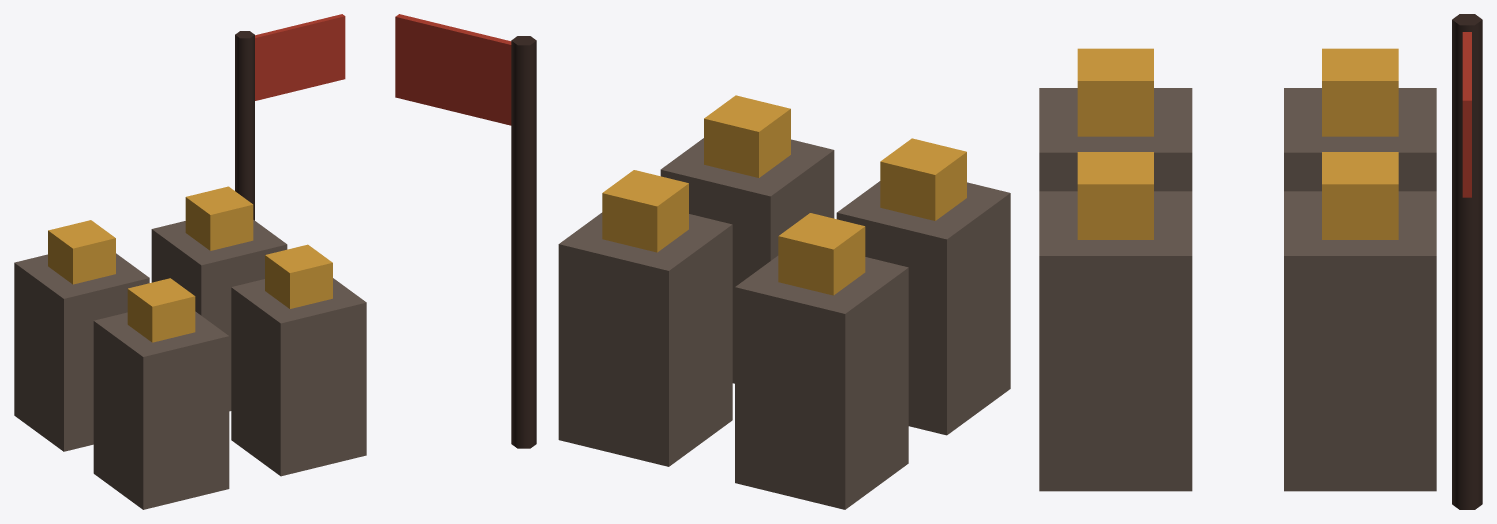
Rendered from ji_guan_jun_tuan.glb.
The picture shows the model from 3 angles, left to right: view 1: azimuth 30°, elevation 25°; view 2: azimuth 150°, elevation 25°; view 3: azimuth 270°, elevation 25°; orthographic projection. The views are drawn at different scales.
Parts seen in each view (by area): view 1: _MeshInstance3D_48, _MeshInstance3D_52, _MeshInstance3D_46, _MeshInstance3D_50, _MeshInstance3D_55, _MeshInstance3D_49, _MeshInstance3D_51, _MeshInstance3D_47, _MeshInstance3D_53, _MeshInstance3D_54; view 2: _MeshInstance3D_50, _MeshInstance3D_46, _MeshInstance3D_48, _MeshInstance3D_52, _MeshInstance3D_54, _MeshInstance3D_55, _MeshInstance3D_47, _MeshInstance3D_49, _MeshInstance3D_51, _MeshInstance3D_53; view 3: _MeshInstance3D_52, _MeshInstance3D_50, _MeshInstance3D_54, _MeshInstance3D_48, _MeshInstance3D_46, _MeshInstance3D_47, _MeshInstance3D_49, _MeshInstance3D_51, _MeshInstance3D_53, _MeshInstance3D_55.
Boxes of the visible parts, x1,y1,x2,y2 form: _MeshInstance3D_48: (93,311,229,509); _MeshInstance3D_52: (231,278,366,476); _MeshInstance3D_46: (14,253,149,451); _MeshInstance3D_50: (151,220,287,411); _MeshInstance3D_55: (255,14,345,100); _MeshInstance3D_49: (127,278,195,342); _MeshInstance3D_51: (185,186,253,250); _MeshInstance3D_47: (48,220,115,284); _MeshInstance3D_53: (265,244,332,308); _MeshInstance3D_54: (235,31,254,220); _MeshInstance3D_50: (558,212,732,466); _MeshInstance3D_46: (735,256,908,509); _MeshInstance3D_48: (836,181,1010,435); _MeshInstance3D_52: (660,138,834,383); _MeshInstance3D_54: (511,36,536,448); _MeshInstance3D_55: (395,14,511,125); _MeshInstance3D_47: (778,213,865,295); _MeshInstance3D_49: (880,138,966,220); _MeshInstance3D_51: (602,170,688,252); _MeshInstance3D_53: (704,95,790,177); _MeshInstance3D_52: (1039,191,1192,491); _MeshInstance3D_50: (1284,191,1436,491); _MeshInstance3D_54: (1452,14,1482,509); _MeshInstance3D_48: (1039,88,1192,191); _MeshInstance3D_46: (1284,88,1436,191); _MeshInstance3D_47: (1322,48,1398,136); _MeshInstance3D_49: (1077,48,1153,136); _MeshInstance3D_51: (1322,152,1398,239); _MeshInstance3D_53: (1077,152,1153,239); _MeshInstance3D_55: (1462,32,1471,197).
Size of the model in its own units: 0.79 by 0.7 by 0.58.
